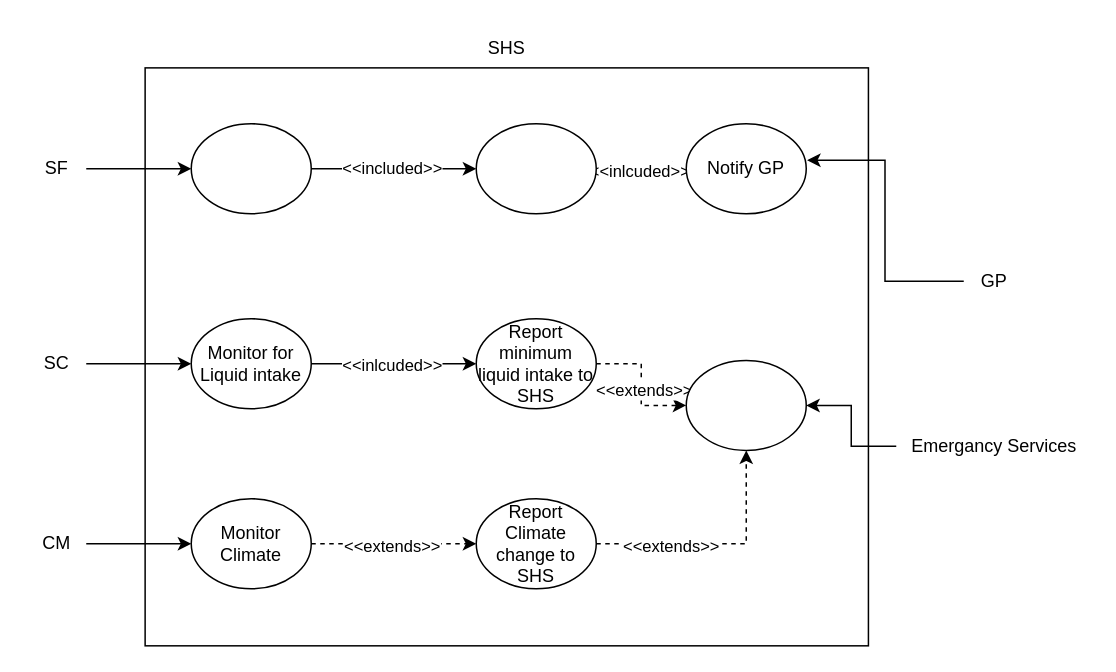
The diagram is 1116 pixels wide and 672 high, and some of its shapes have lost their labels. Each missing label, with the box of its shape:
Monitor for spoiled food: (190, 122, 311, 214)
Notify Emergancy Services: (685, 359, 806, 450)
Report spoilage to SHS: (475, 122, 596, 214)
